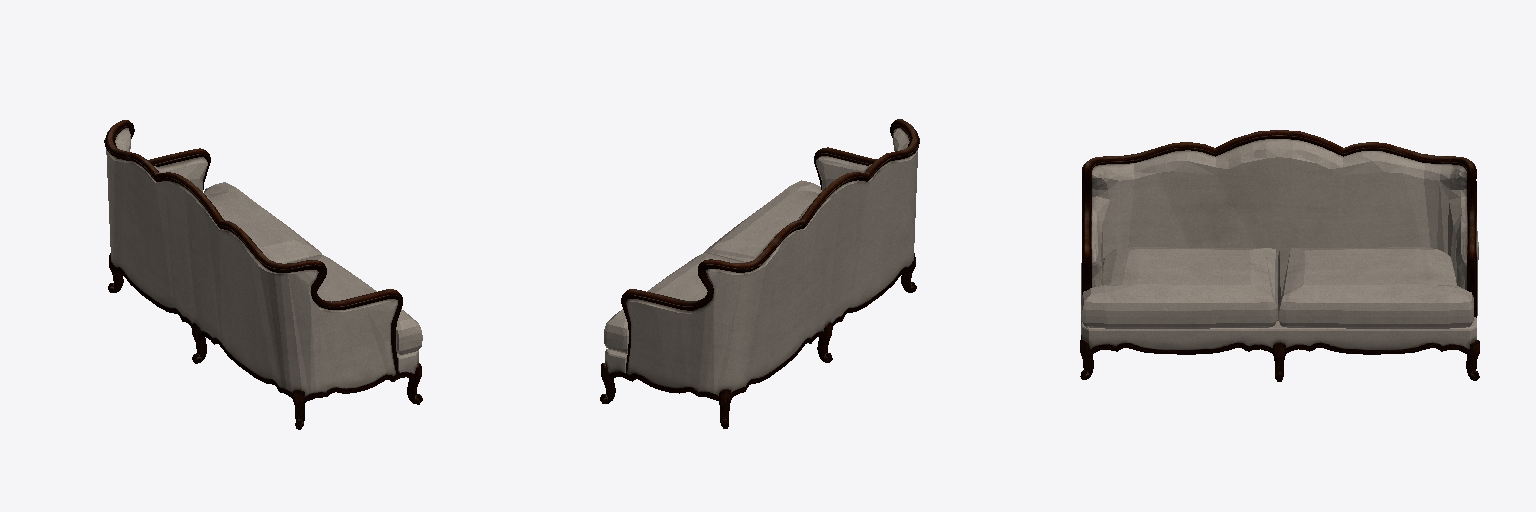
The picture shows the model from 3 angles: view 1: azimuth 30°, elevation 25°; view 2: azimuth 150°, elevation 25°; view 3: azimuth 270°, elevation 25°; orthographic projection.
Visible parts, largest first — view 1: Sofa_01_Line[number redacted].002; view 2: Sofa_01_Line[number redacted].002; view 3: Sofa_01_Line[number redacted].002.
Boxes of the visible parts, x1,y1,x2,y2 form: Sofa_01_Line[number redacted].002: [104, 120, 422, 429]; Sofa_01_Line[number redacted].002: [600, 119, 919, 428]; Sofa_01_Line[number redacted].002: [1080, 130, 1479, 381].
Bounding box in the file's own units: 0.658 × 0.7965 × 1.57.
Materials: 1 (1 with a texture image).